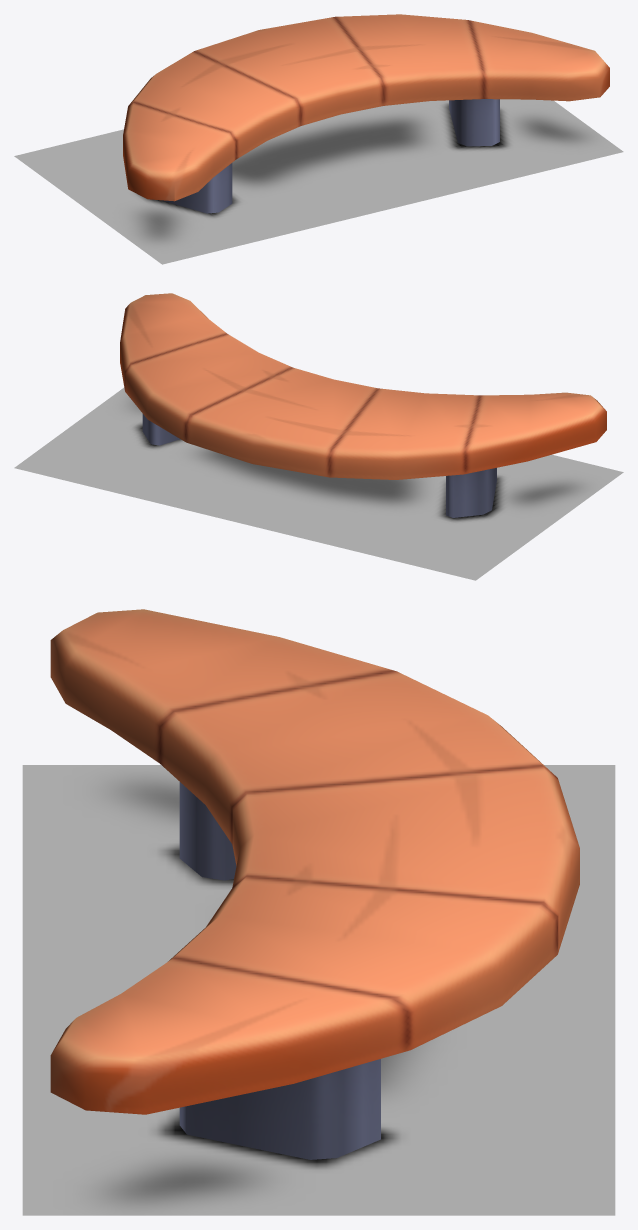
File: Mesh_Item_01_CrescentBench.FBX
3 renders of one model, top to bottom at view 1: azimuth 30°, elevation 25°; view 2: azimuth 150°, elevation 25°; view 3: azimuth 270°, elevation 25°, orthographic. The views are drawn at different scales.
Visible parts, largest first — view 1: Mesh_Item_01_CrescentBench, Mesh_Shadow_01_CrescentBench; view 2: Mesh_Item_01_CrescentBench, Mesh_Shadow_01_CrescentBench; view 3: Mesh_Item_01_CrescentBench, Mesh_Shadow_01_CrescentBench.
Part boxes in pixels (x1,y1,x2,y2): Mesh_Item_01_CrescentBench: (123,14,609,213); Mesh_Shadow_01_CrescentBench: (14,99,623,264); Mesh_Item_01_CrescentBench: (120,293,606,517); Mesh_Shadow_01_CrescentBench: (14,387,623,580); Mesh_Item_01_CrescentBench: (50,609,579,1159); Mesh_Shadow_01_CrescentBench: (22,765,615,1215).
Size of the model in its own units: 2.59 by 0.4231 by 1.41.
2 materials, 2 textured.
